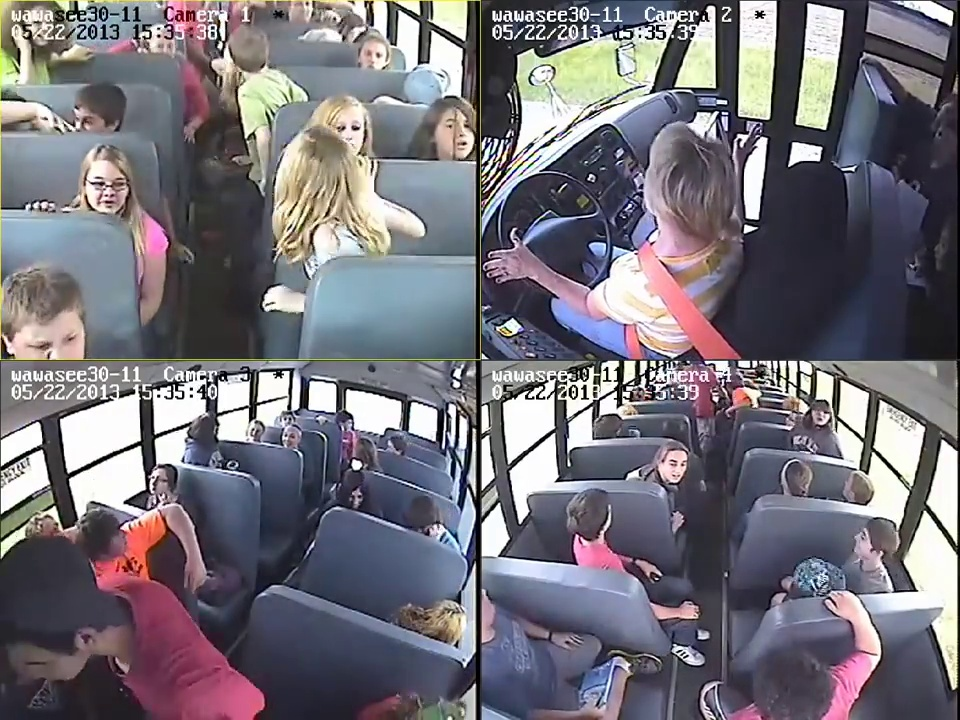face: (29, 322, 83, 359), (433, 112, 477, 156), (88, 165, 125, 212), (335, 112, 369, 146), (360, 43, 386, 71), (147, 471, 172, 499), (854, 526, 876, 557), (664, 449, 683, 483), (282, 431, 302, 451), (810, 406, 830, 425), (347, 483, 363, 506)
